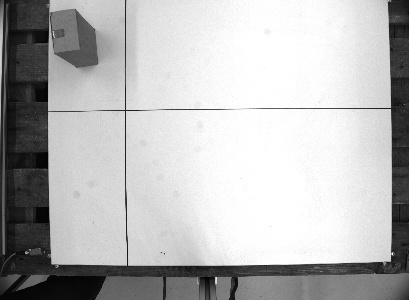b6: (47, 5, 101, 70)
